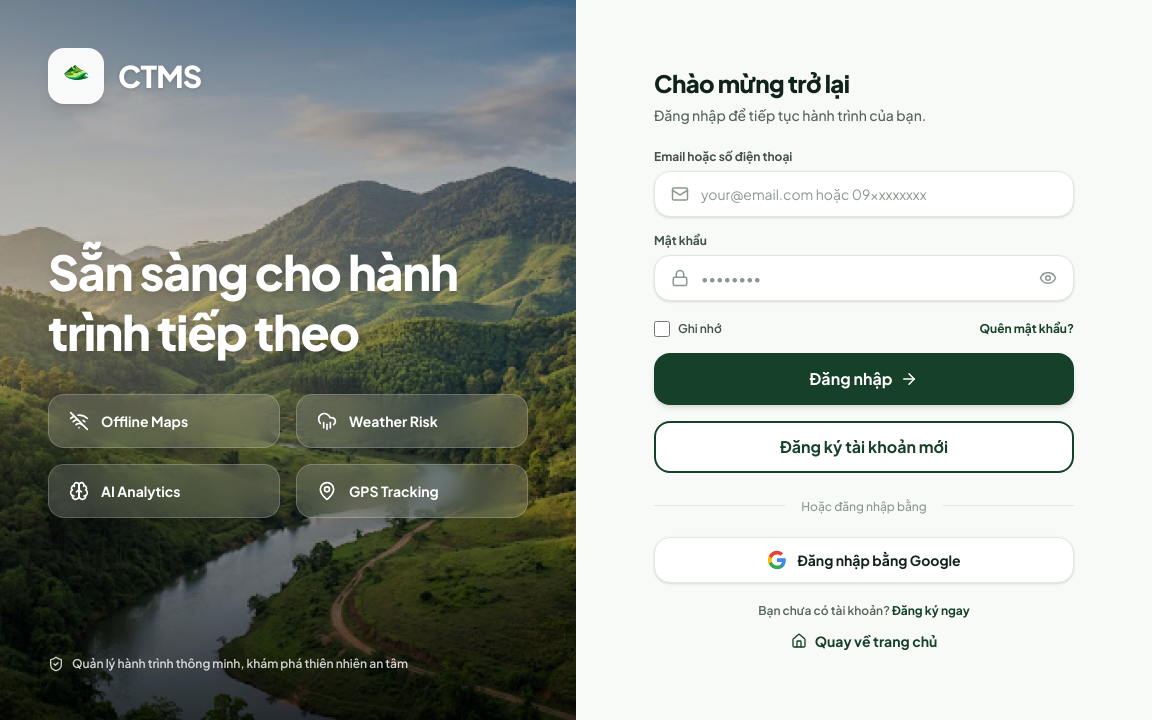
Test: LoginPage › disables the submit button and shows the loading label while the request is pending
Step 1. Type "admin@ctms.local" into the field with placeholder "your@email.com hoặc 09xxxxxxxx" → (879, 194), box [701, 184, 1057, 204]
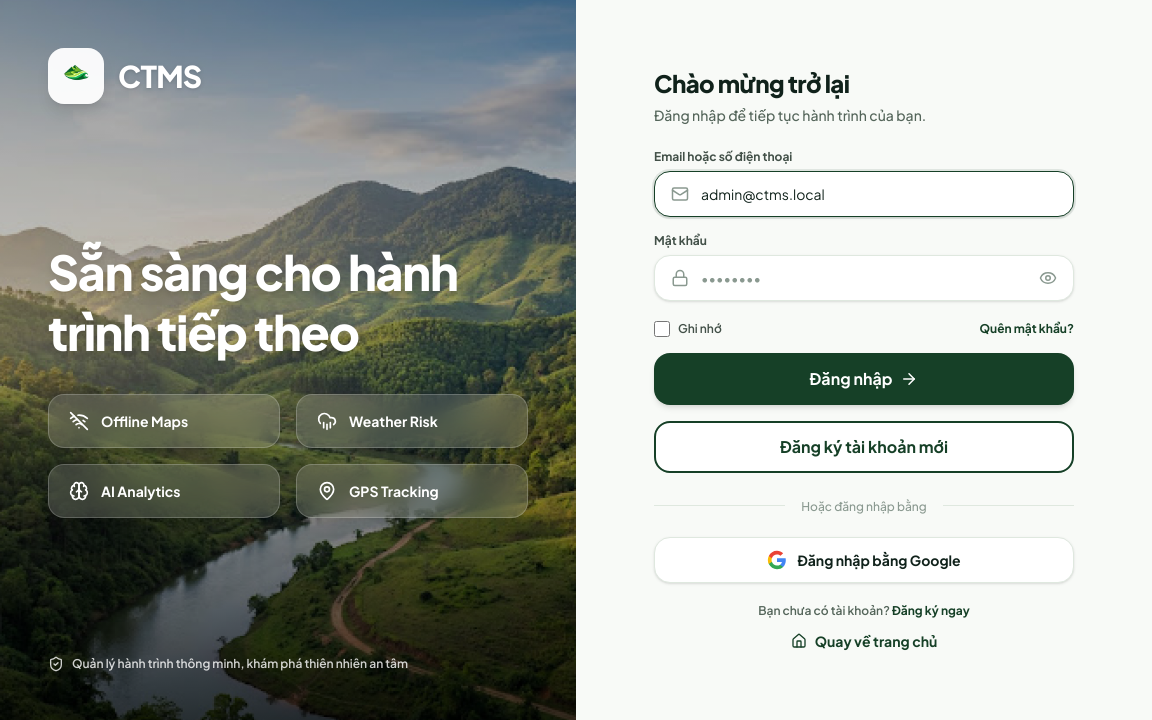
Step 2. Type "Admin@123" into the password field with placeholder "••••••••" → (864, 278), box [701, 268, 1027, 288]
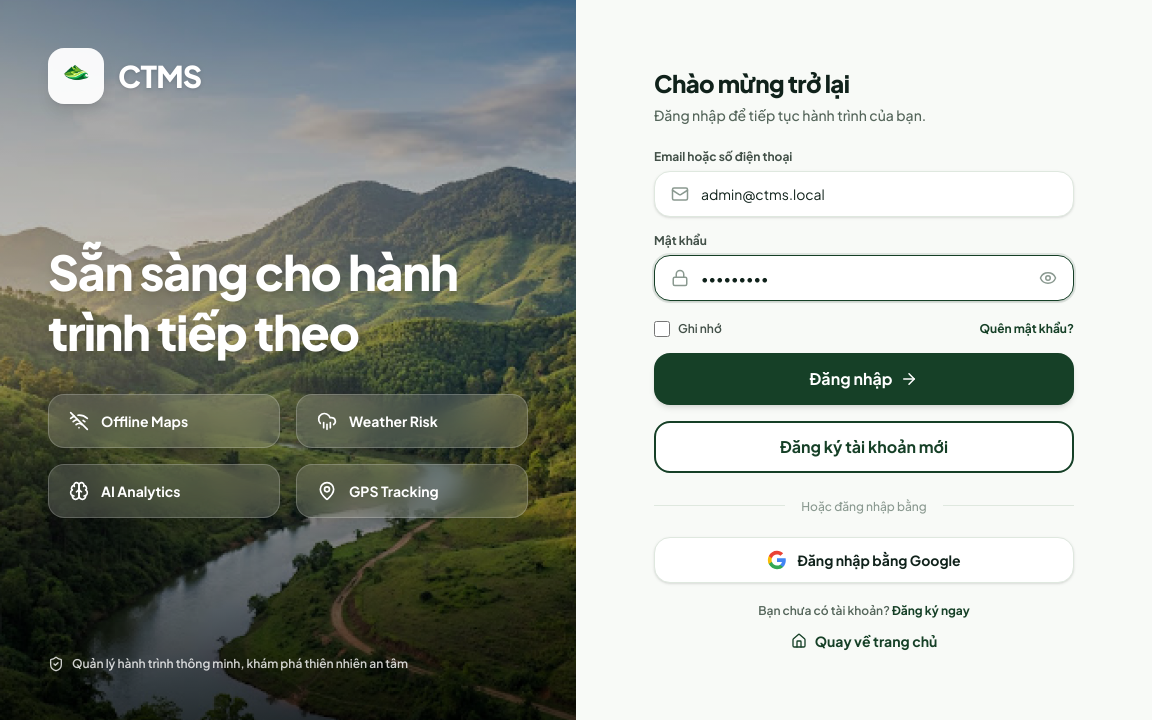
Step 3. Click the button "Đăng nhập" → (864, 379), box [654, 353, 1074, 405]
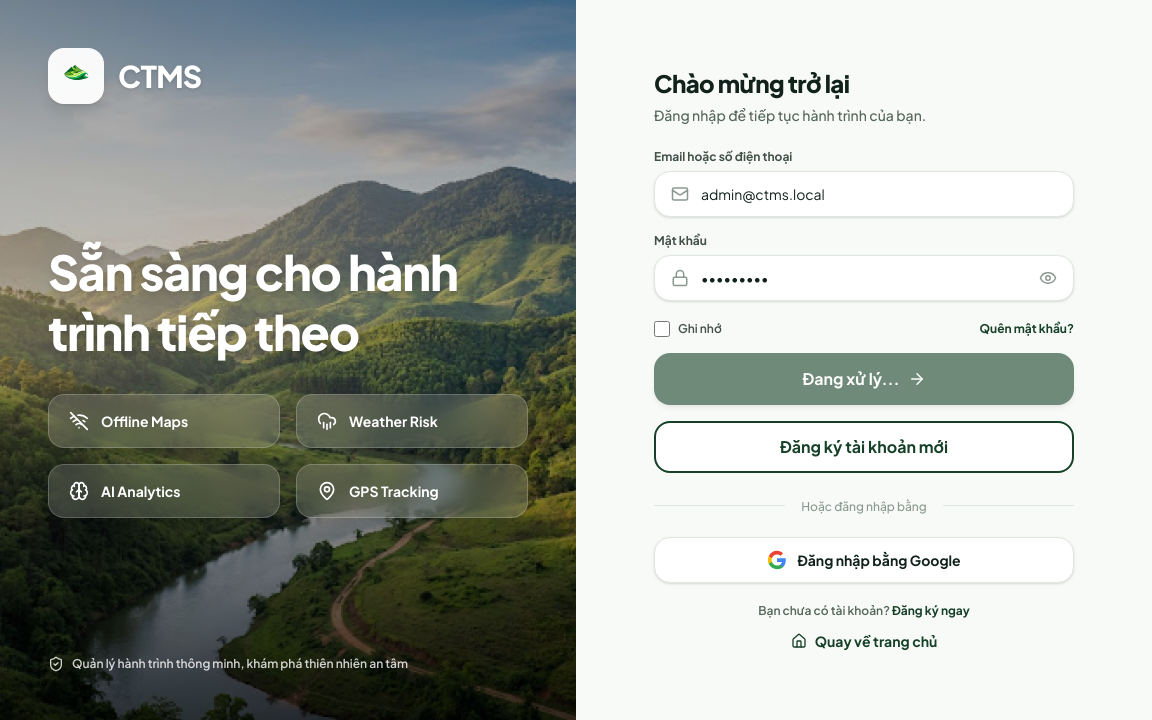
Expected: the button "Đang xử lý..." is disabled, [654, 353, 1074, 405]
